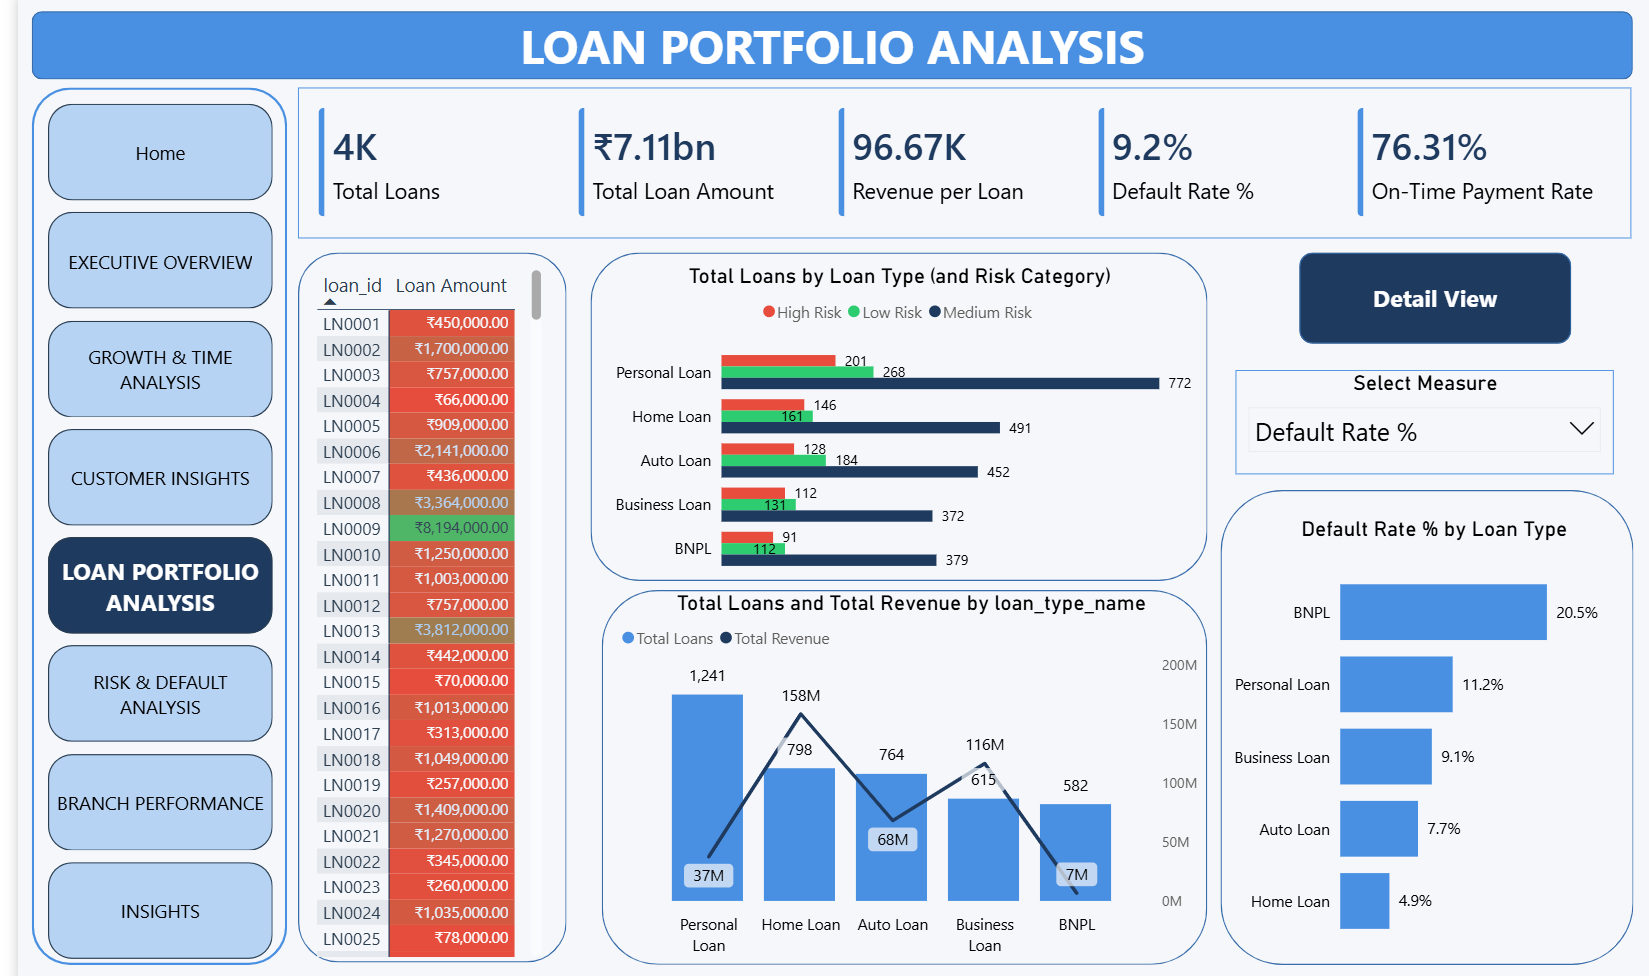

The dashboard page shown, as its layout file describes it:
{"tool":"powerbi","page":{"name":"LOAN PORTFOLIO ANALYSIS","canvas":[1400,850],"ordinal":5},"visuals":[{"type":"shape","box":[11.4,79.8,219.3,753.4],"z":0,"group":"g1"},{"type":"shape","box":[240.7,220.8,230.7,609.6],"z":0},{"type":"shape","box":[1032.8,425,354.7,407.8],"z":1000},{"type":"shape","box":[501.3,511.3,519.9,321.9],"z":2000},{"type":"shape","box":[491.4,220.8,529.8,282],"z":3000},{"type":"shape","box":[12,13.5,1374.8,58.5],"z":4000},{"type":"cardVisual","fields":{"Data":["_Measures.Total Loans","_Measures.Total Loan Amount","_Measures.Revenue per Loan","_Measures.Default Rate %","_Measures.On-Time Payment Rate"]},"box":[240.7,79.8,1145.1,129.6],"z":5000},{"type":"clusteredBarChart","fields":{"Y":["_Measures.Total Revenue"],"Category":["Loan_Type.loan_type_name"]},"box":[1032.6,447.2,367.5,386],"z":6000},{"type":"lineClusteredColumnComboChart","fields":{"Category":["Loan_Type.loan_type_name"],"Y":["_Measures.Total Loans"],"Y2":["_Measures.Total Revenue"]},"box":[512.7,511.3,508.5,321.9],"z":7000},{"type":"clusteredBarChart","title":"Total Loans by Loan Type (and Risk Category)","fields":{"Category":["Loan_Type.loan_type_name"],"Y":["_Measures.Total Loans"],"Series":["Customers.Risk Category"]},"box":[501.3,230.7,511.3,280.6],"z":8000},{"type":"shape","box":[1099.5,220.8,233.6,78.3],"z":9000},{"type":"slicer","title":"Select Measure","fields":{"Values":["LOAN PORTFOLIO ANALYSIS - Select Dynamic Measure.LOAN PORTFOLIO ANALYSIS - Select Dynamic Measure"]},"box":[1045.4,321.9,324.7,89.7],"z":10000},{"type":"group","id":"g1","title":"Group 1","box":[11.4,79.8,219.3,753.4],"z":11000},{"type":"pivotTable","fields":{"Rows":["Loans.loan_id"],"Values":["_Measures.Total Loan Amount"]},"box":[252.1,230.7,202.2,599.6],"z":12000},{"type":"pageNavigator","box":[25.6,94,193.7,736.3],"z":14000,"group":"g1"}]}

Visuals, with their boxes in screenshot pixels (x1, y1, x2, y2), scaled from the page's 1400x850 canvas onto the 1649x976 screenshot:
shape: [left=13, top=92, right=272, bottom=957]
shape: [left=284, top=254, right=555, bottom=953]
shape: [left=1216, top=488, right=1634, bottom=956]
shape: [left=590, top=587, right=1203, bottom=957]
shape: [left=579, top=254, right=1203, bottom=577]
shape: [left=14, top=16, right=1633, bottom=83]
cardVisual - _Measures.Total Loans x _Measures.Total Loan Amount: [left=284, top=92, right=1632, bottom=240]
clusteredBarChart - _Measures.Total Revenue x Loan_Type.loan_type_name: [left=1216, top=513, right=1648, bottom=957]
lineClusteredColumnComboChart - Loan_Type.loan_type_name x _Measures.Total Loans: [left=604, top=587, right=1203, bottom=957]
"Total Loans by Loan Type (and Risk Category)" clusteredBarChart: [left=590, top=265, right=1193, bottom=587]
shape: [left=1295, top=254, right=1570, bottom=343]
"Select Measure" slicer: [left=1231, top=370, right=1614, bottom=473]
"Group 1" group: [left=13, top=92, right=272, bottom=957]
pivotTable - Loans.loan_id x _Measures.Total Loan Amount: [left=297, top=265, right=535, bottom=953]
pageNavigator: [left=30, top=108, right=258, bottom=953]
